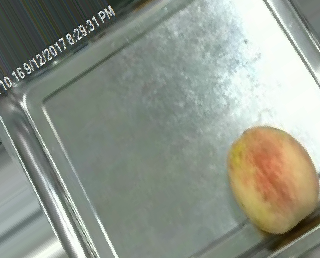Peach: (226, 125, 319, 234)
